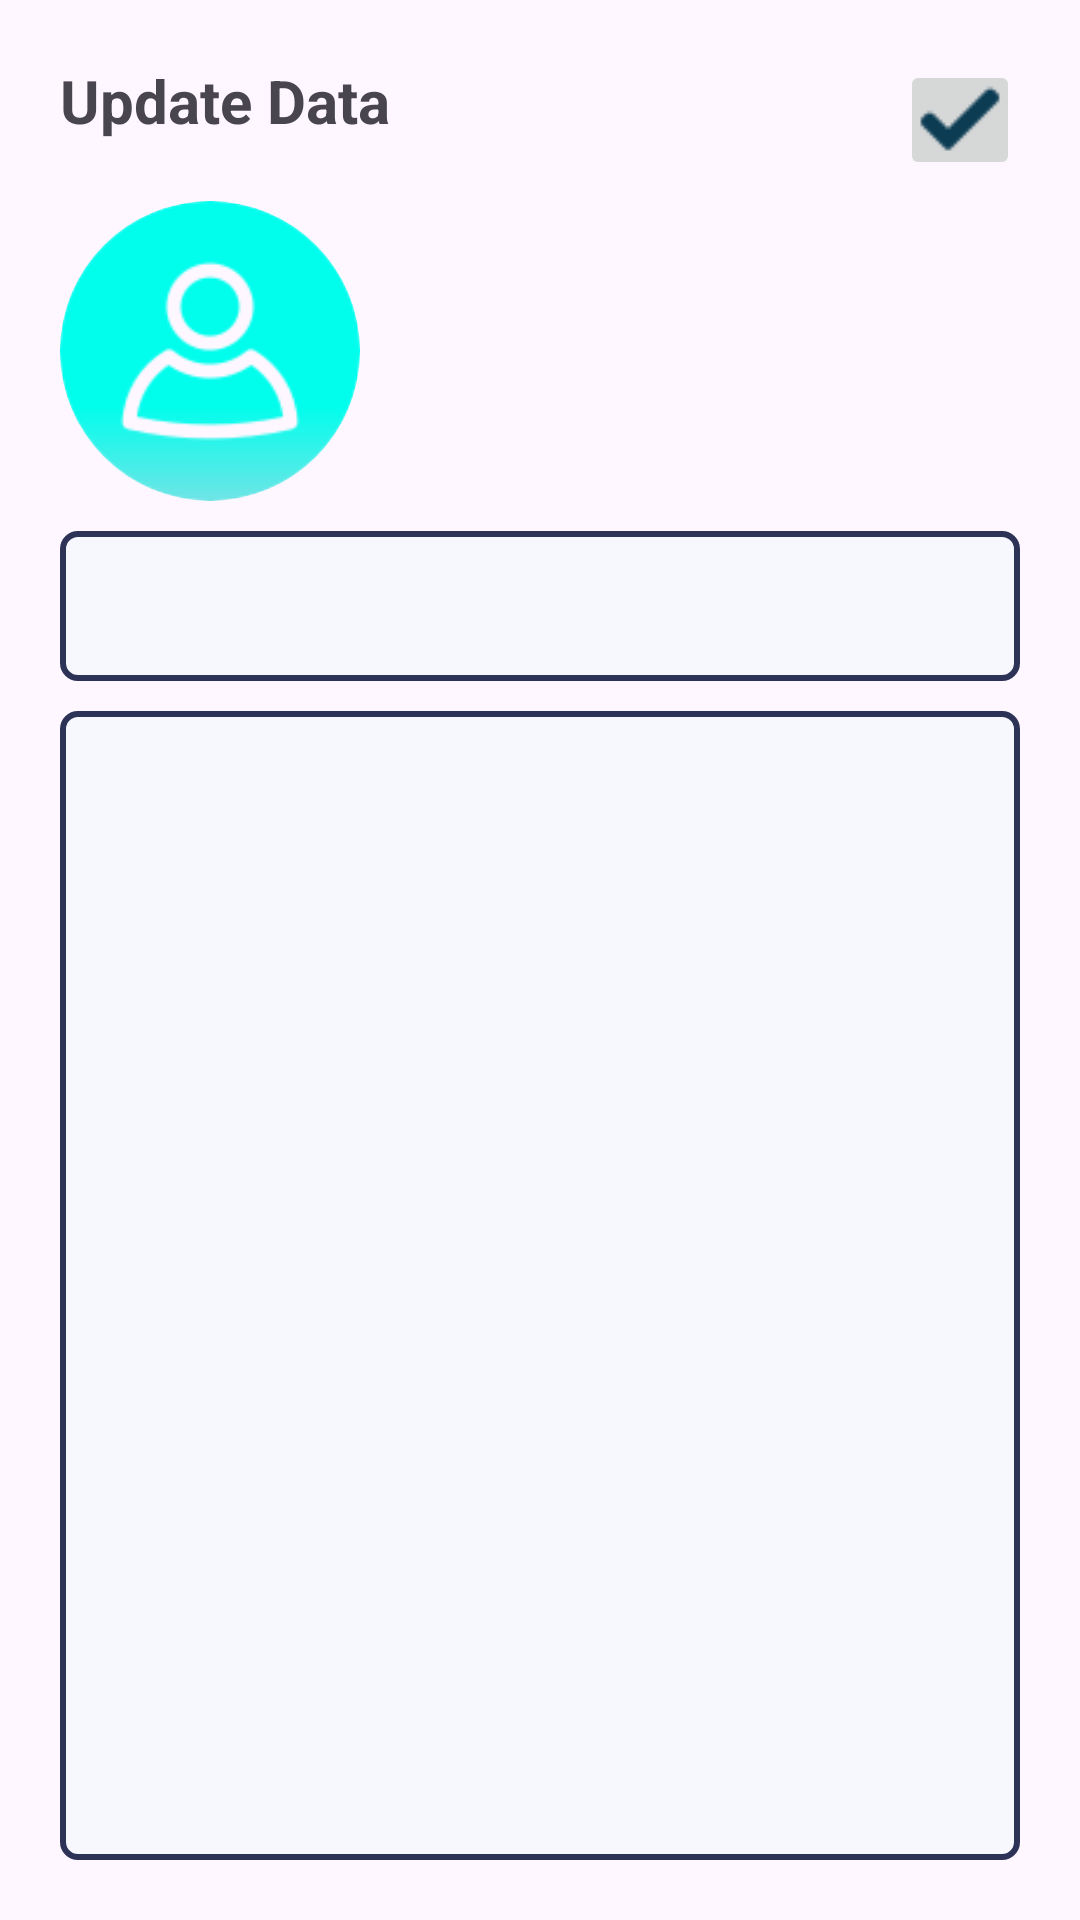

Where icons sit on this 1080x1920 app screen, as (x1, y1, x2, y2):
check: (912, 78, 1008, 162)
